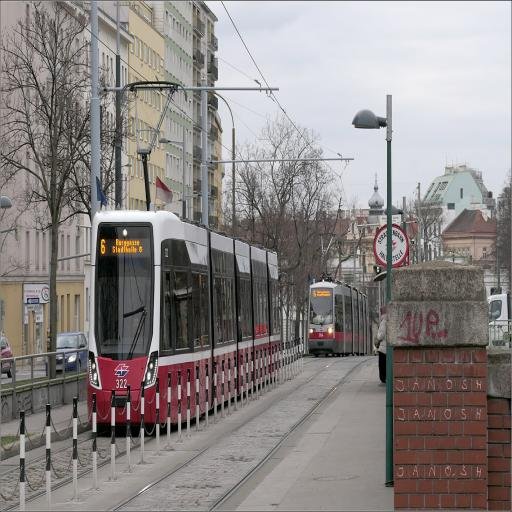Flexity: (88, 210, 280, 431)
